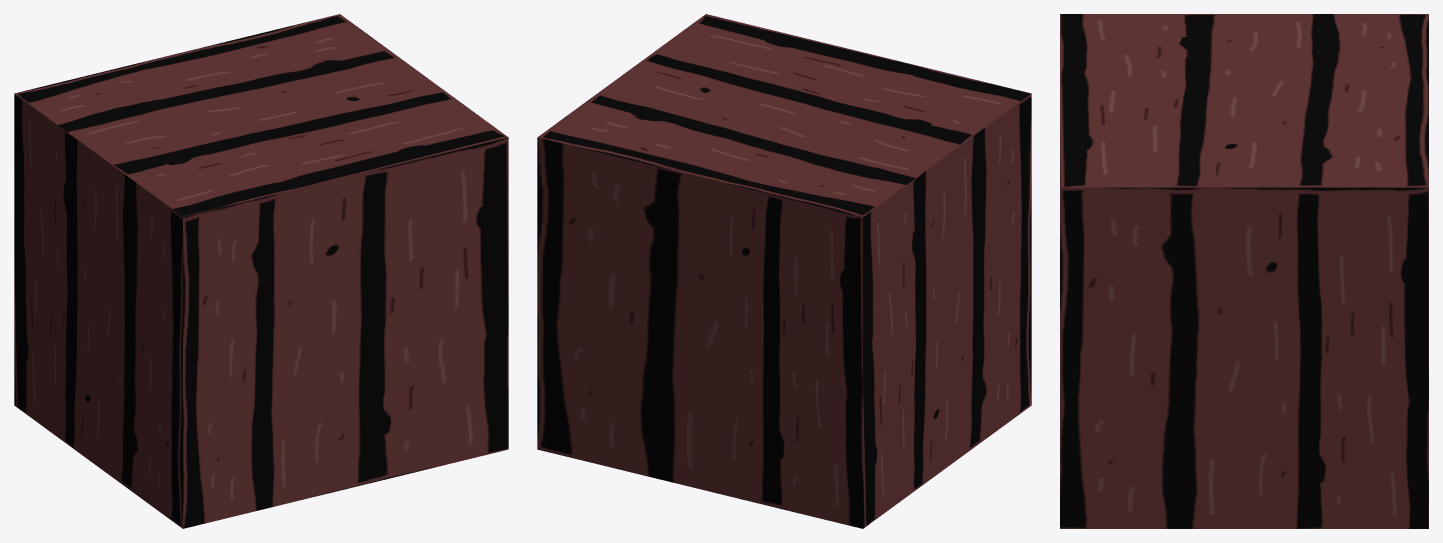
Rendered from crate.obj.
3 renders of one model, left to right at view 1: azimuth 30°, elevation 25°; view 2: azimuth 150°, elevation 25°; view 3: azimuth 270°, elevation 25°, orthographic. The views are drawn at different scales.
Visible parts, largest first — view 1: Cube; view 2: Cube; view 3: Cube.
Boxes of the visible parts, x1=… form: Cube: x1=14, y1=14, x2=508, y2=528; Cube: x1=537, y1=14, x2=1031, y2=528; Cube: x1=1060, y1=14, x2=1428, y2=528.
Size of the model in its own units: 4.75 by 4.35 by 4.26.
1 material, 1 textured.
